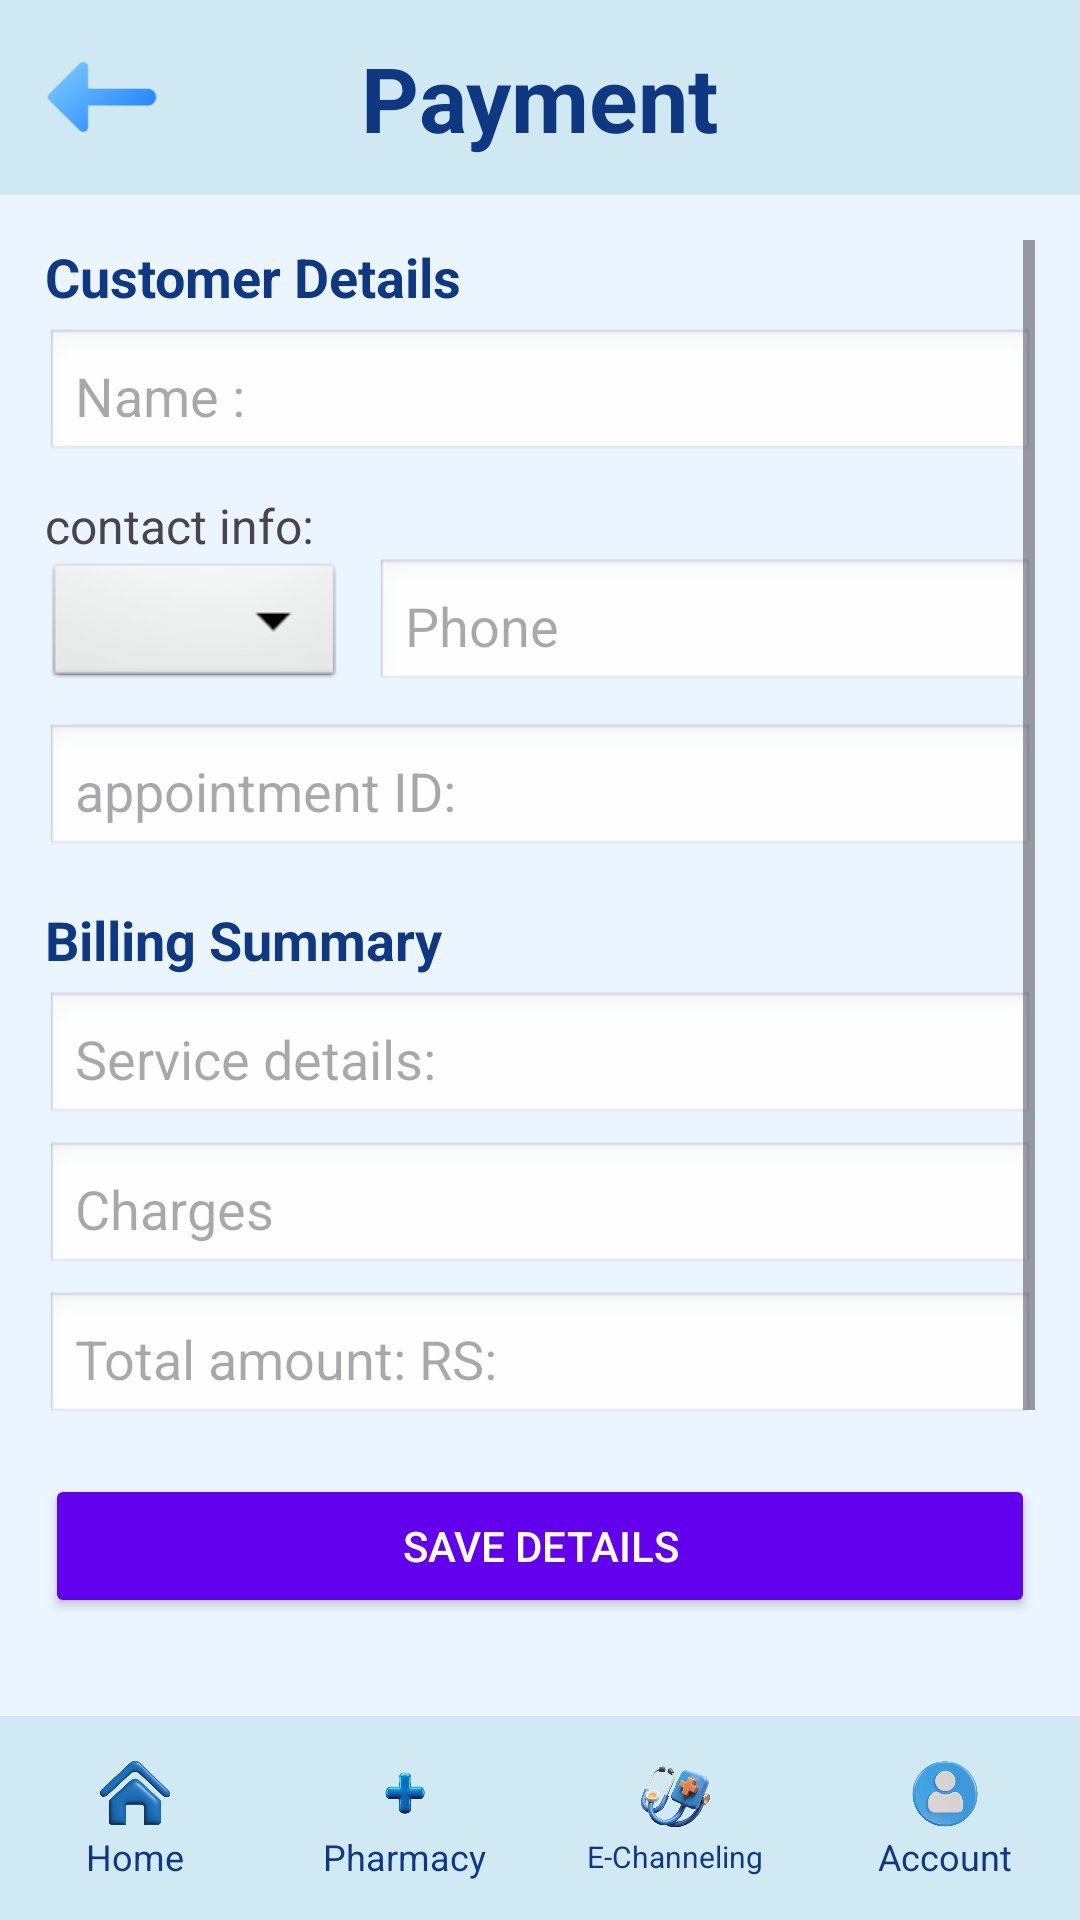

Point at icon controls on the screen. Image size 1080 × 1920, points as (x=x, y=y).
Back: (x=102, y=97)
